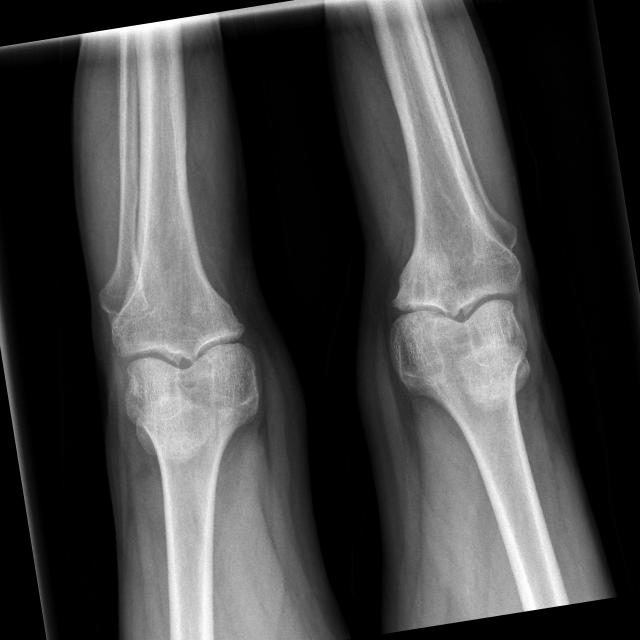Knee: (378, 250, 534, 386), (107, 290, 260, 426)
